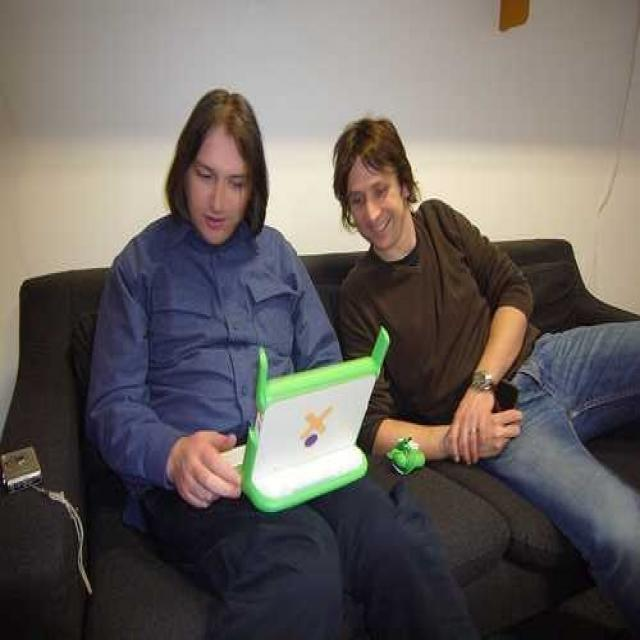laptop: (238, 334, 390, 516)
